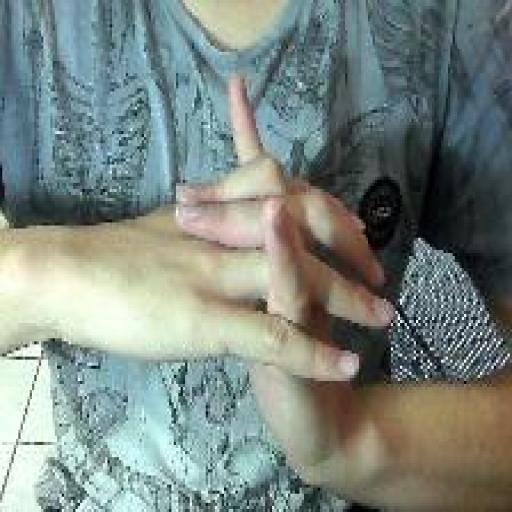Ushi -ox-: (174, 70, 398, 500)
